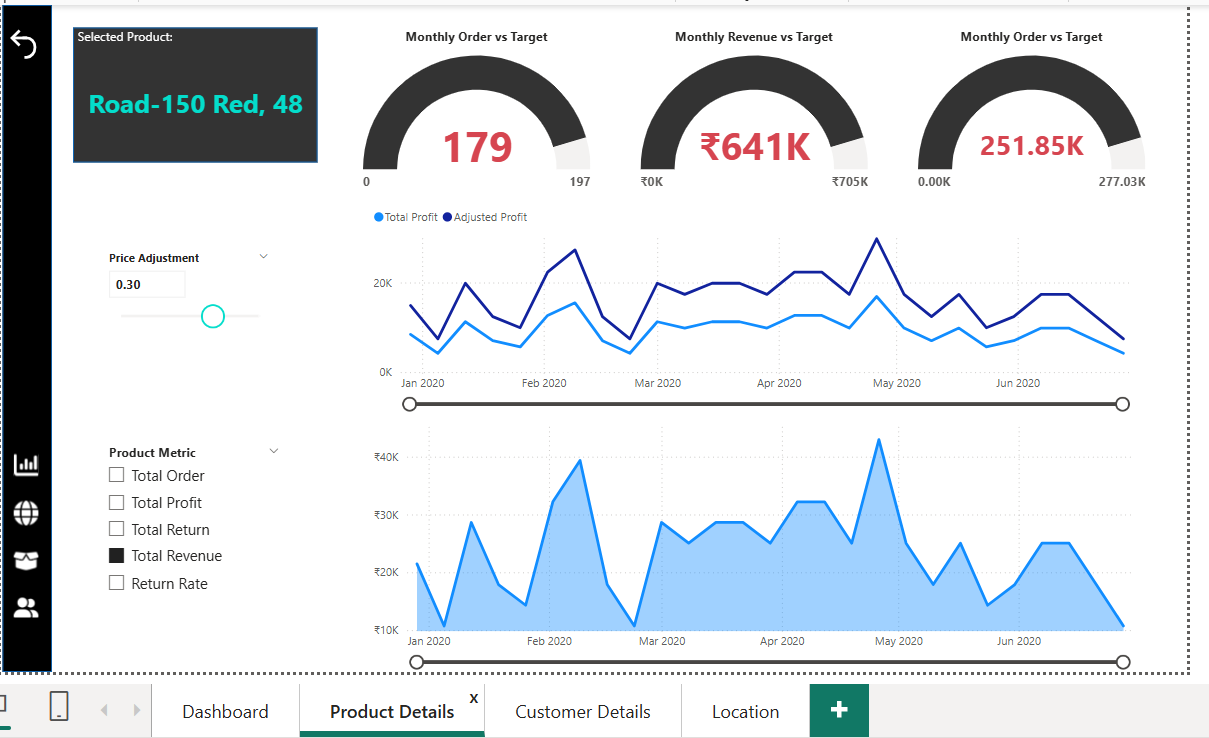

Layout of this report page (visuals, bound fields, positions):
{"tool":"powerbi","page":{"name":"Product Details","canvas":[1280,720],"ordinal":1},"visuals":[{"type":"shape","box":[1.6,0,53.4,720],"z":0},{"type":"group","id":"g1","title":"Selection Product","box":[77,24.3,264,146.4],"z":1000},{"type":"shape","box":[77.1,24.3,263.9,145.7],"z":1000,"group":"g1"},{"type":"actionButton","box":[9.7,471.2,34.8,51.5],"z":1000,"group":"g2"},{"type":"gauge","title":"Monthly Order vs Target","fields":{"Y":["Measures (2).Total Order"],"MaxValue":["Measures (2).Order Target"]},"box":[384.9,24.3,255.8,192.7],"z":2000},{"type":"card","title":"Selected Product:","fields":{"Values":["Min(Product Details.ProductName)"]},"box":[77,24.4,263.8,146.4],"z":2000,"group":"g1"},{"type":"actionButton","box":[9.7,522.7,34.8,51.5],"z":2000,"group":"g2"},{"type":"gauge","title":"Monthly Order vs Target","fields":{"Y":["Measures (2).Total Profit"],"MaxValue":["Measures (2).Profit Target"]},"box":[984.5,24.3,255.8,192.7],"z":3000},{"type":"actionButton","box":[9.7,574.2,34.8,51.5],"z":3000,"group":"g2"},{"type":"gauge","title":"Monthly Revenue vs Target","fields":{"Y":["Measures (2).Total Revenue"],"MaxValue":["Measures (2).Revenue Target"]},"box":[684.7,24.3,255.8,192.7],"z":4000},{"type":"actionButton","box":[9.7,625.7,34.8,51.5],"z":4000,"group":"g2"},{"type":"areaChart","fields":{"Y":["Measures (2).Total Revenue"],"Category":["Calendar.Year","Calendar.Start of Week","Calendar.Start of Month"]},"box":[396.7,442,843.6,278.5],"z":5000},{"type":"lineChart","fields":{"Category":["Calendar.Year","Calendar.Start of Week","Calendar.Start of Month"],"Y":["Measures (2).Total Profit","Measures (2).Adjusted Profit"]},"box":[396.7,208.9,843.6,233.2],"z":6000},{"type":"slicer","fields":{"Values":["Product Metric.Product Metric"]},"box":[103.6,468,208.9,226.7],"z":7000},{"type":"slicer","fields":{"Values":["Price Adjustment.Price Adjustment"]},"box":[103.6,259.1,197.5,100.4],"z":8000},{"type":"group","id":"g2","title":"Navigation","box":[9.7,471.2,34,207.3],"z":9000},{"type":"actionButton","box":[3.2,21,100.4,42.1],"z":10000}]}

Visuals, with their boxes on the page's 1280x720 design canvas (x1, y1, x2, y2). These are canvas units, not pixel positions in the 1209x738 screenshot, which may show the page scaled, cropped or inside an application window:
shape: <region>2, 0, 55, 720</region>
"Selection Product" group: <region>77, 24, 341, 171</region>
shape: <region>77, 24, 341, 170</region>
actionButton: <region>10, 471, 44, 523</region>
"Monthly Order vs Target" gauge: <region>385, 24, 641, 217</region>
"Selected Product:" card: <region>77, 24, 341, 171</region>
actionButton: <region>10, 523, 44, 574</region>
"Monthly Order vs Target" gauge: <region>984, 24, 1240, 217</region>
actionButton: <region>10, 574, 44, 626</region>
"Monthly Revenue vs Target" gauge: <region>685, 24, 940, 217</region>
actionButton: <region>10, 626, 44, 677</region>
areaChart - Measures (2).Total Revenue x Calendar.Year: <region>397, 442, 1240, 720</region>
lineChart - Calendar.Year x Calendar.Start of Week: <region>397, 209, 1240, 442</region>
slicer - Product Metric.Product Metric: <region>104, 468, 312, 695</region>
slicer - Price Adjustment.Price Adjustment: <region>104, 259, 301, 360</region>
"Navigation" group: <region>10, 471, 44, 678</region>
actionButton: <region>3, 21, 104, 63</region>
